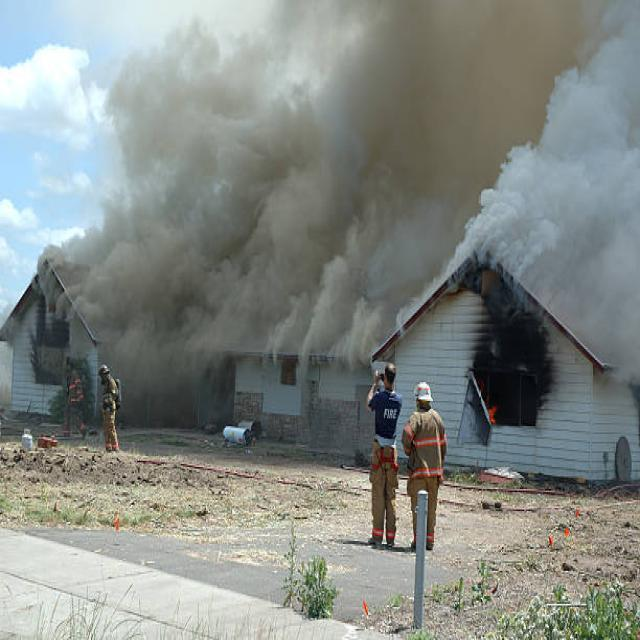Smoke: (122, 0, 640, 252), (64, 200, 388, 352), (549, 106, 640, 364)
